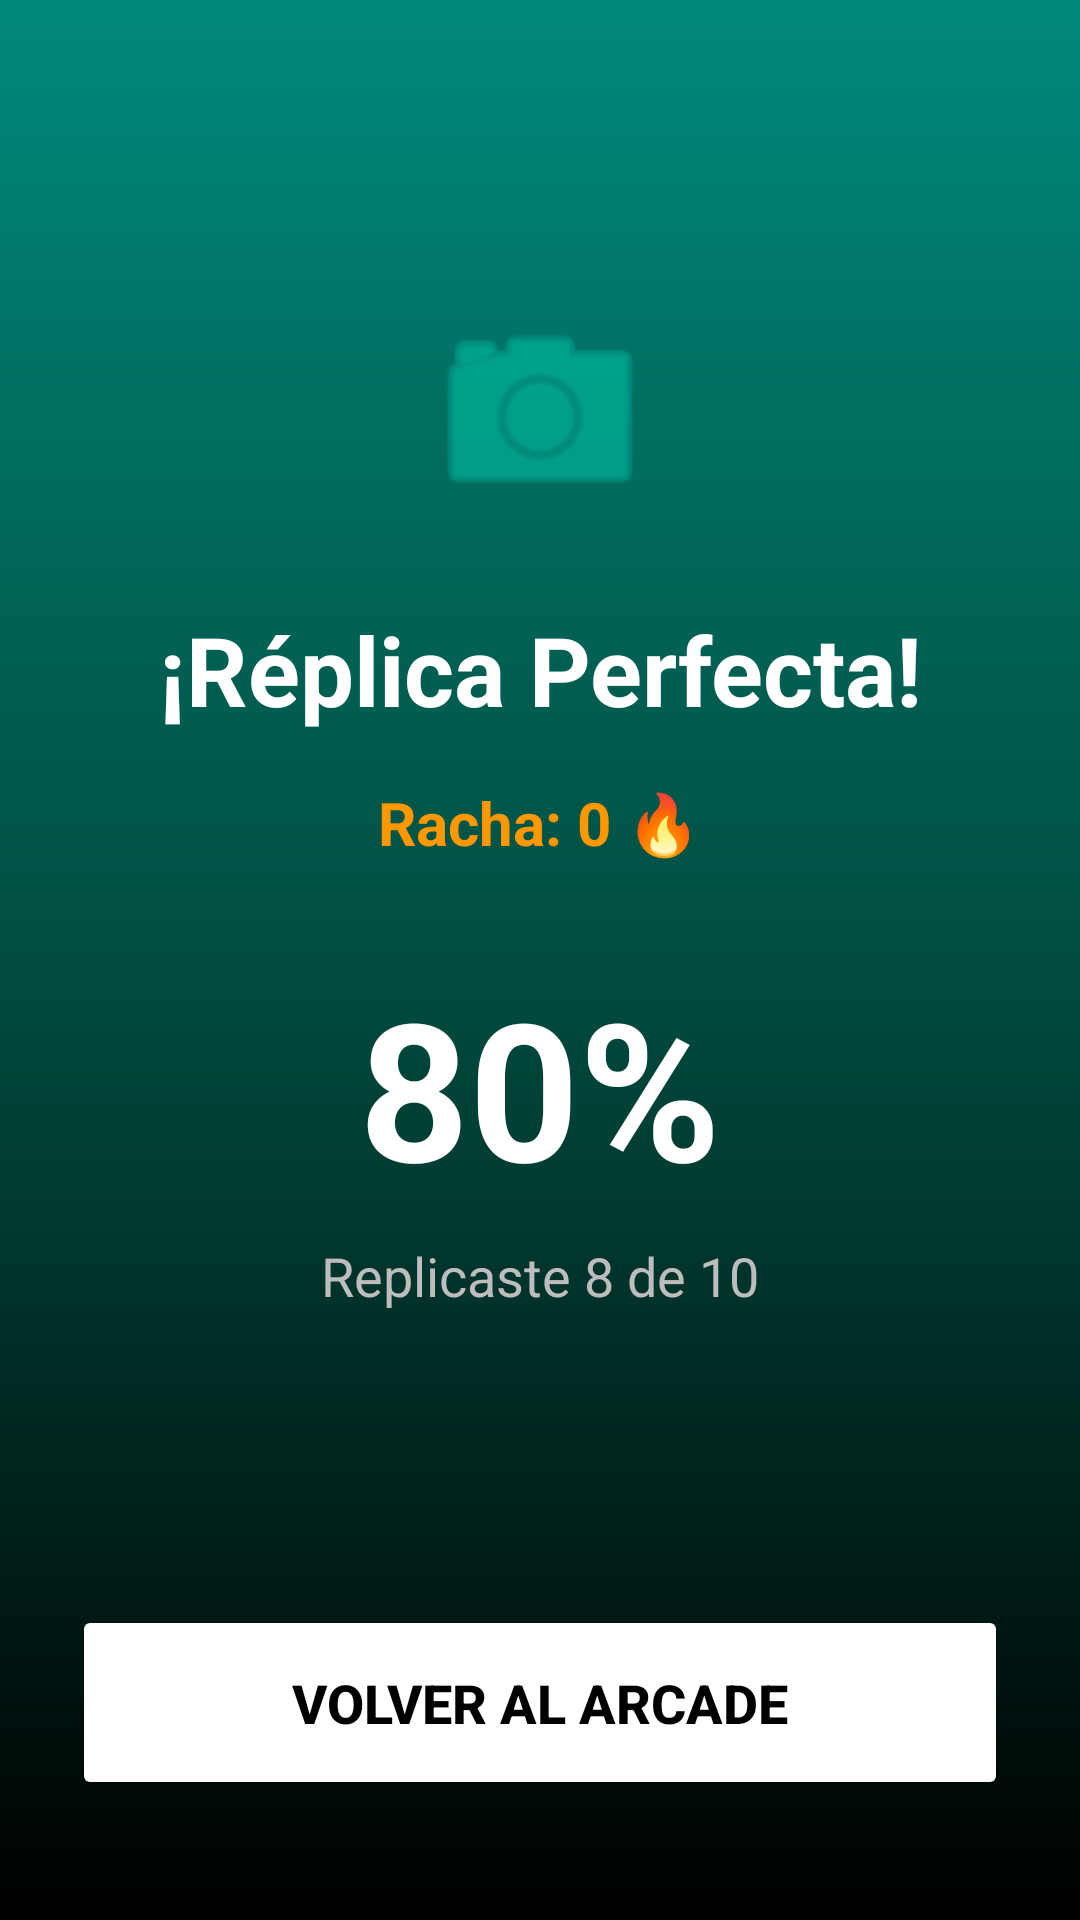

Icons on this 1080px×1920px Android screen, each with the point to tap as point (x, y):
camera: point (540, 409)
